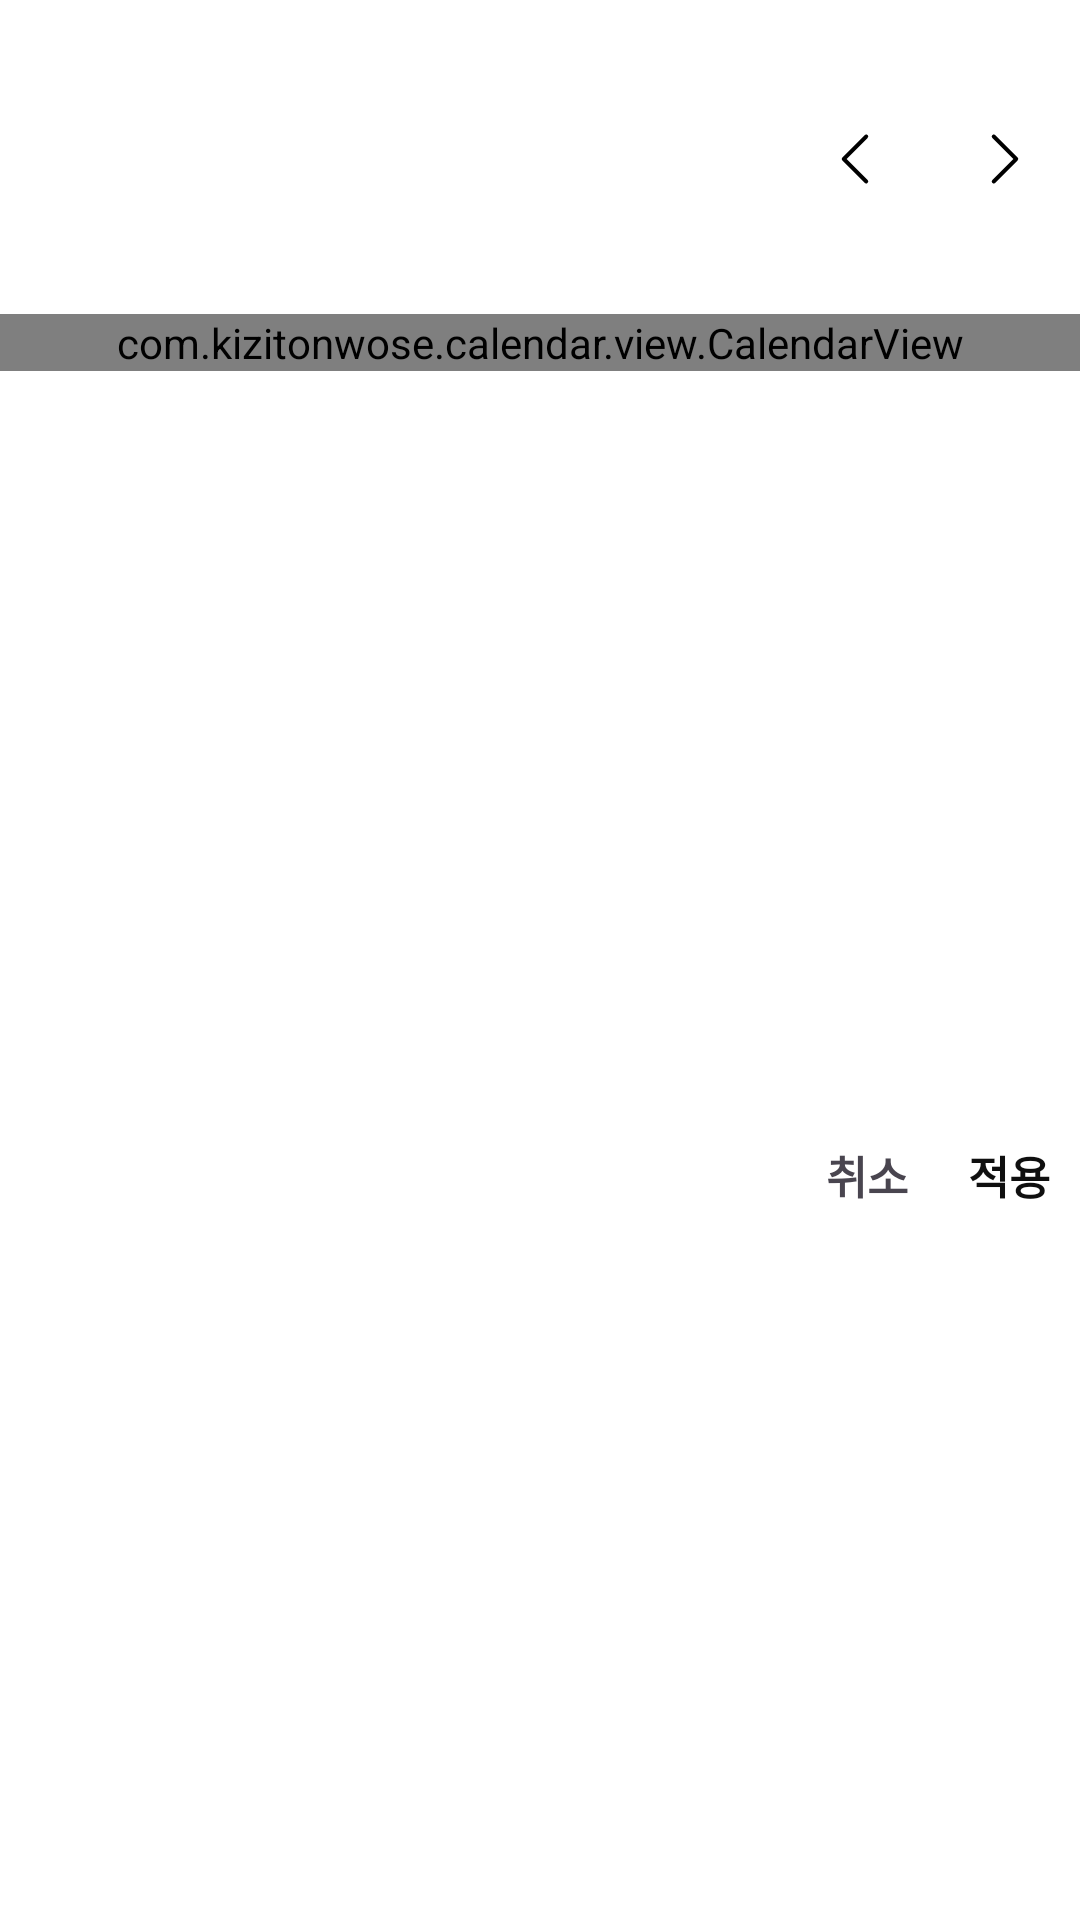

Where icons sit on this 1080px x 1920px app screen, as (x1, y1, x2, y2):
calendar next sv: (991, 134, 1019, 184)
calendar previous sv: (841, 134, 869, 184)
